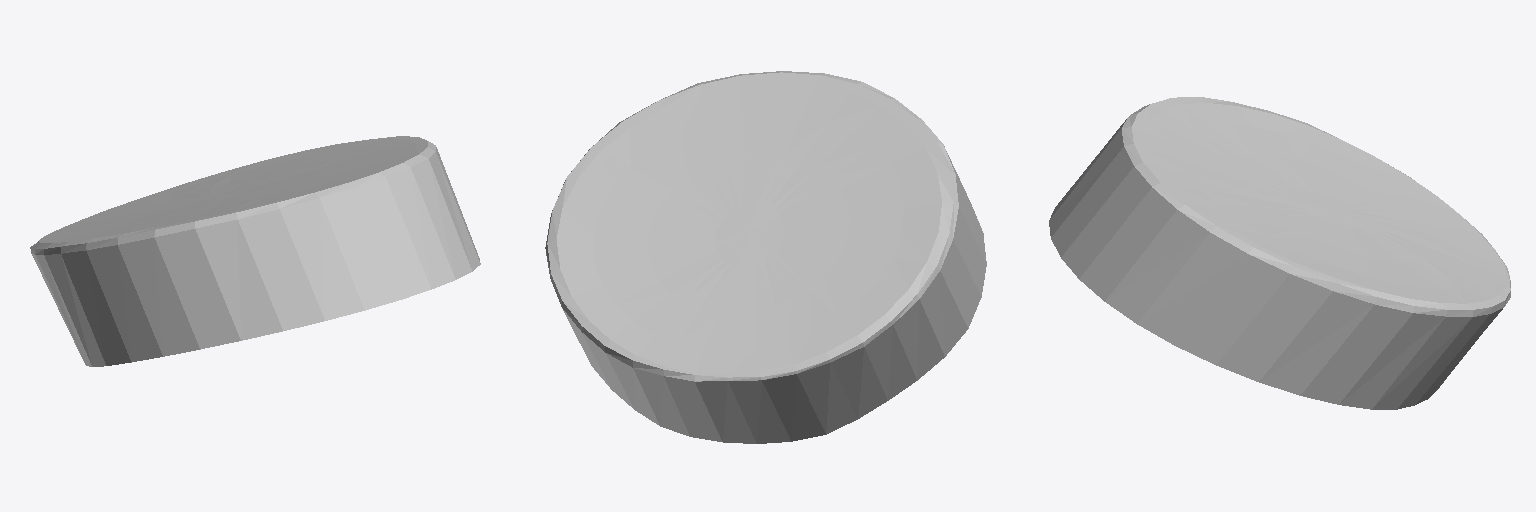
File: R_button_C.obj
3 views of the same model, side by side, from view 1: azimuth 30°, elevation 25°; view 2: azimuth 150°, elevation 25°; view 3: azimuth 270°, elevation 25° (orthographic).
Parts seen in each view (by area): view 1: R_button_C Ctrl_R; view 2: R_button_C Ctrl_R; view 3: R_button_C Ctrl_R.
Part boxes in pixels (bbox=[...]): R_button_C Ctrl_R: bbox=[30, 136, 480, 366]; R_button_C Ctrl_R: bbox=[545, 71, 986, 443]; R_button_C Ctrl_R: bbox=[1049, 97, 1510, 409].
Bounding box in the file's own units: 0.0085 × 0.0054 × 0.0093.